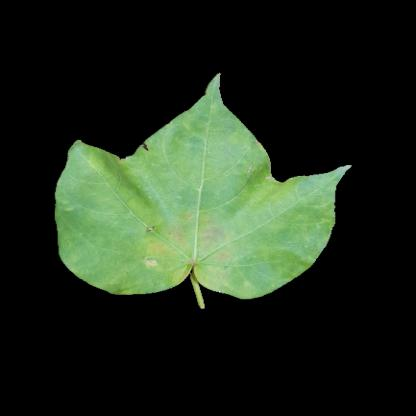curl_stage1: (83, 159, 266, 286), (94, 162, 176, 231), (143, 234, 234, 282), (182, 120, 253, 169), (243, 167, 299, 214), (268, 216, 318, 263)
